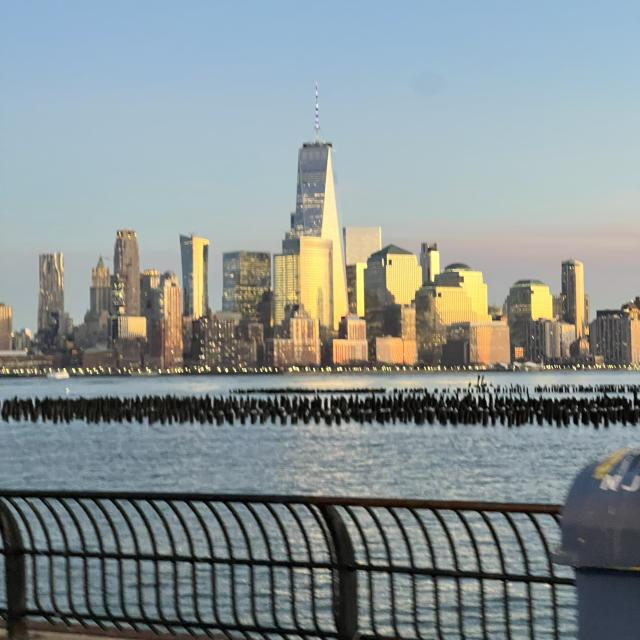WTC: (295, 82, 338, 238)
